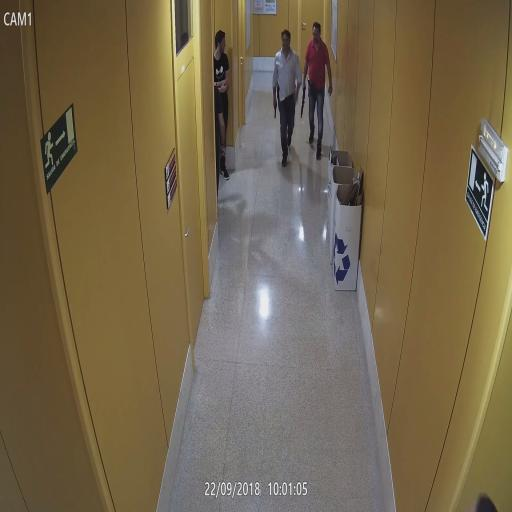Handgun: (272, 98, 278, 119), (307, 77, 312, 93)
